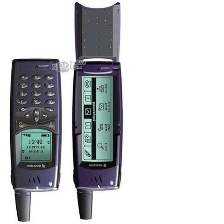phone: (5, 54, 64, 224), (68, 59, 128, 223)
